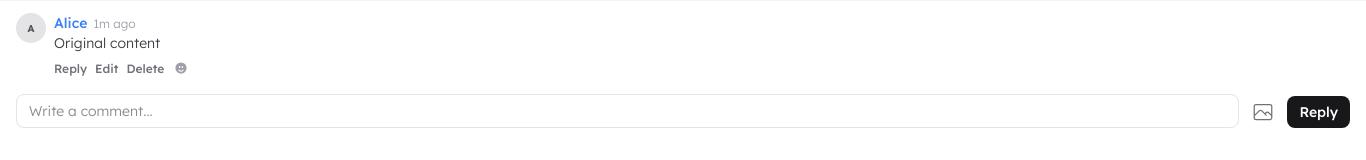
it: CommentSection › enters edit mode when Edit is clicked
Click the button with test id "comment-edit-button".
click(107, 68)  # box left=95, top=60, right=118, bottom=76
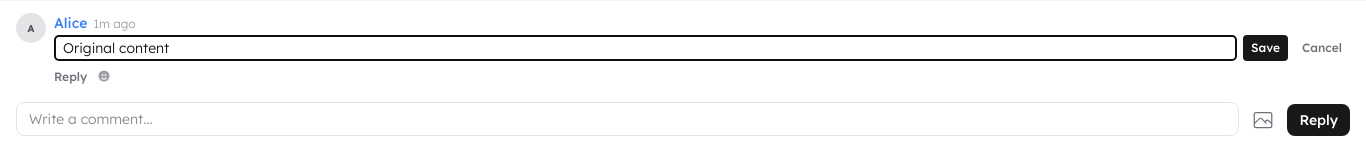
Now the field with test id "comment-edit-input" holds "Original content", box left=54, top=35, right=1237, bottom=61
